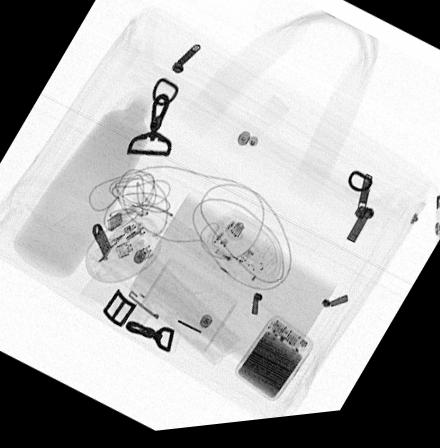Powerbank: (232, 318, 313, 407)
